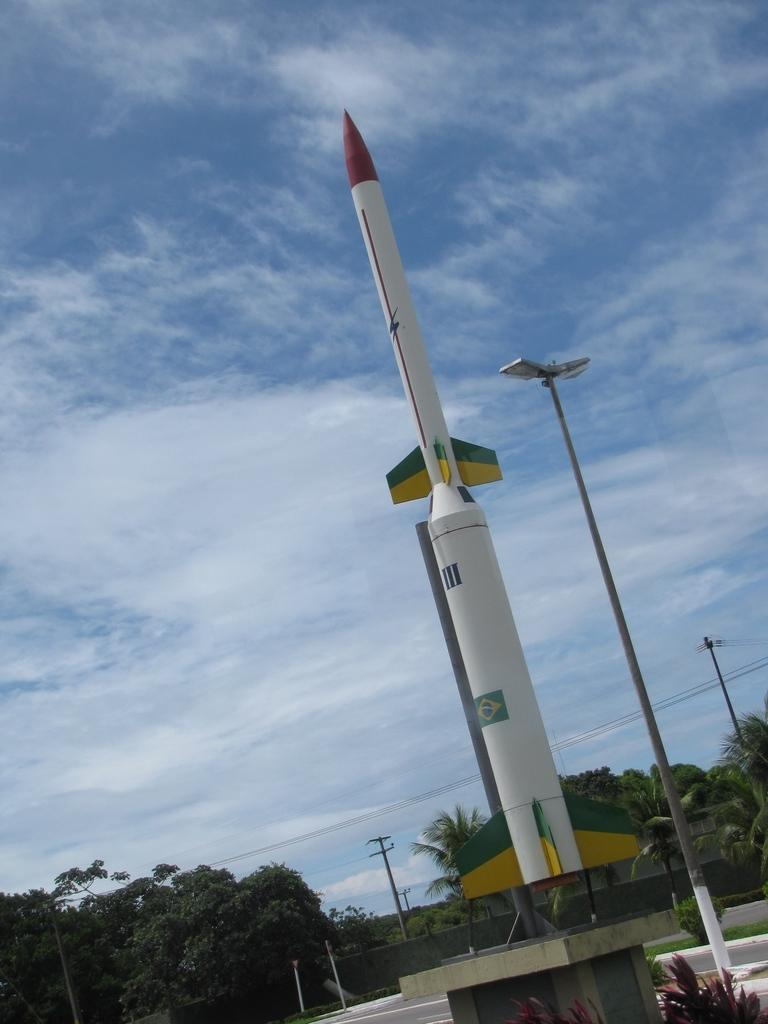Missile: (317, 97, 629, 1009)
